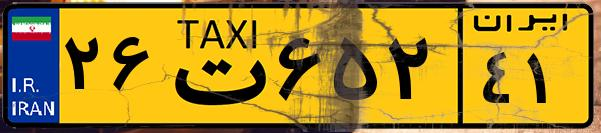1: (525, 38, 570, 115)
2: (385, 28, 445, 110), (57, 26, 110, 100)
4: (475, 38, 525, 113)
5: (330, 28, 385, 110)
6: (270, 28, 330, 110), (110, 28, 158, 98)
ت: (158, 12, 270, 120)
